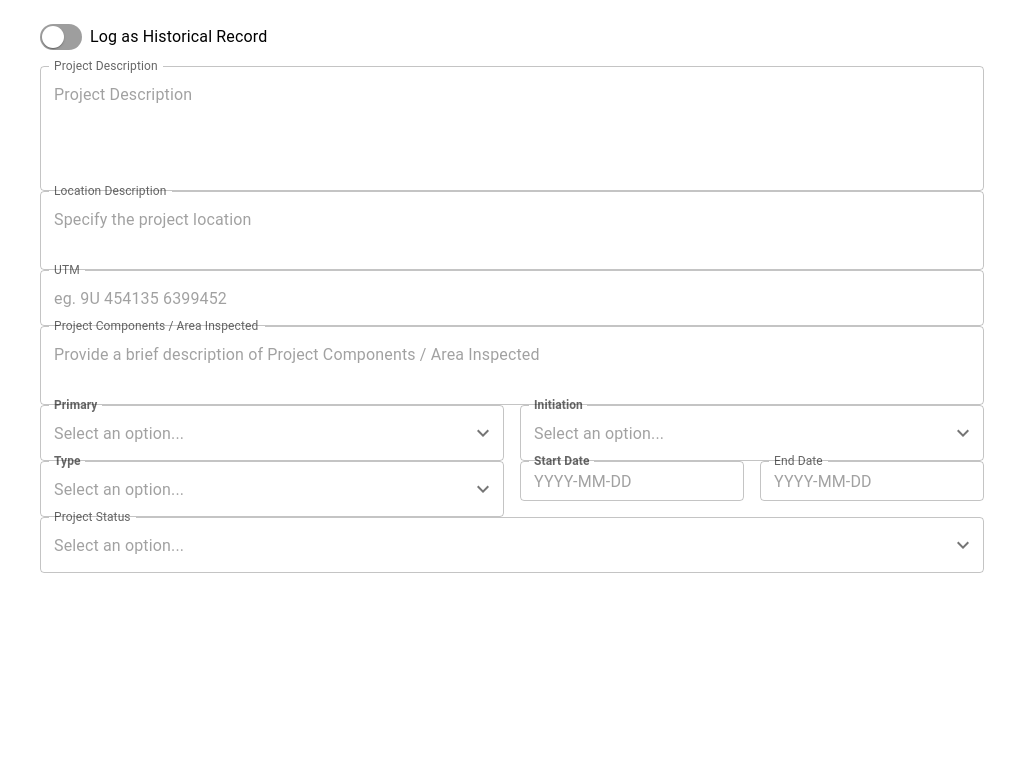
Scenario: InspectionFormLeft Component › allows selecting initiation
Click the dropdown named "initiation". click: (737, 433)
box: [529,414,945,452]
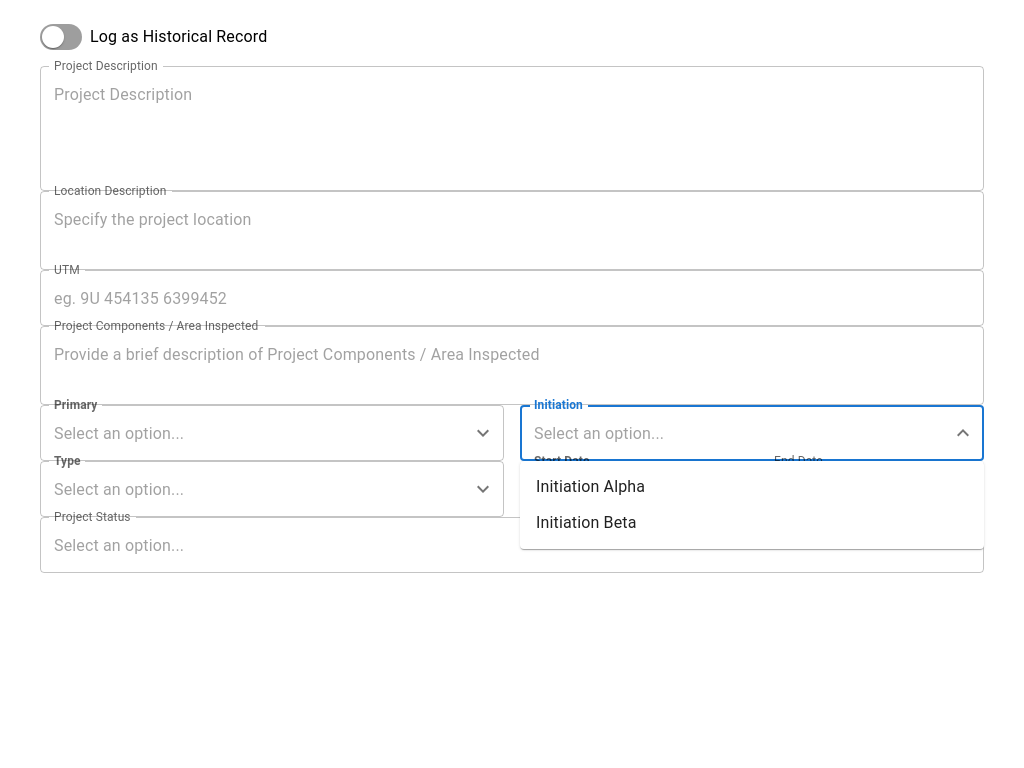
Click the text "Initiation Beta". click: (587, 523)
box: [536,511,637,535]
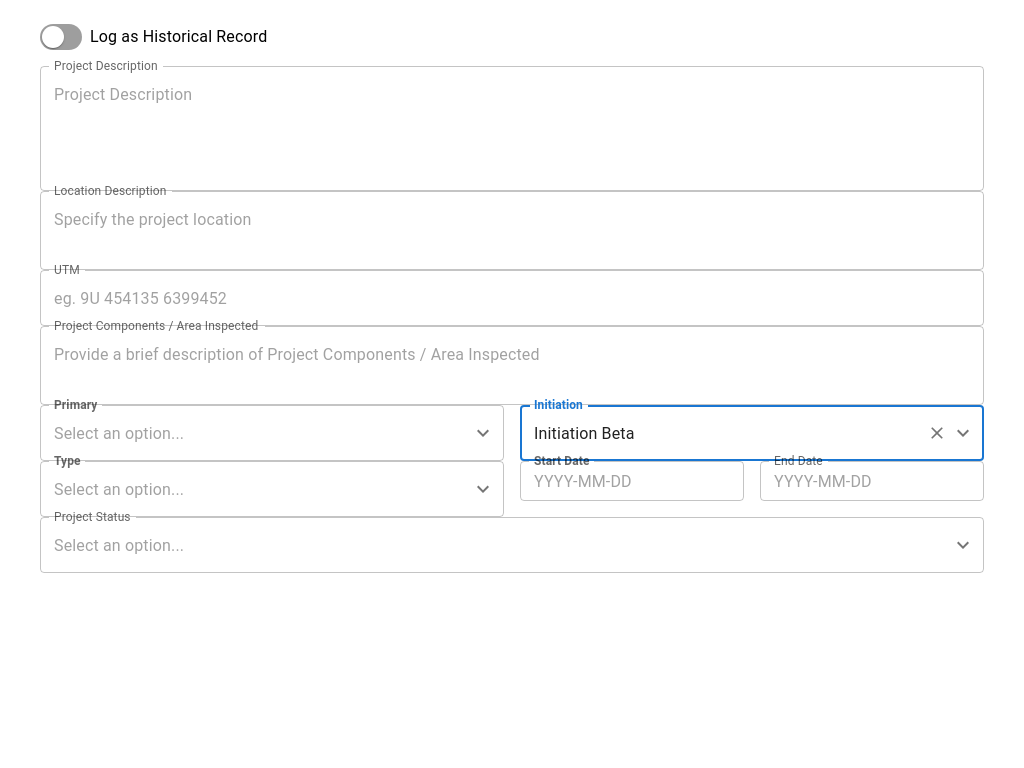
Expected: the dropdown named "initiation" holds "Initiation Beta", [529,414,919,452]
